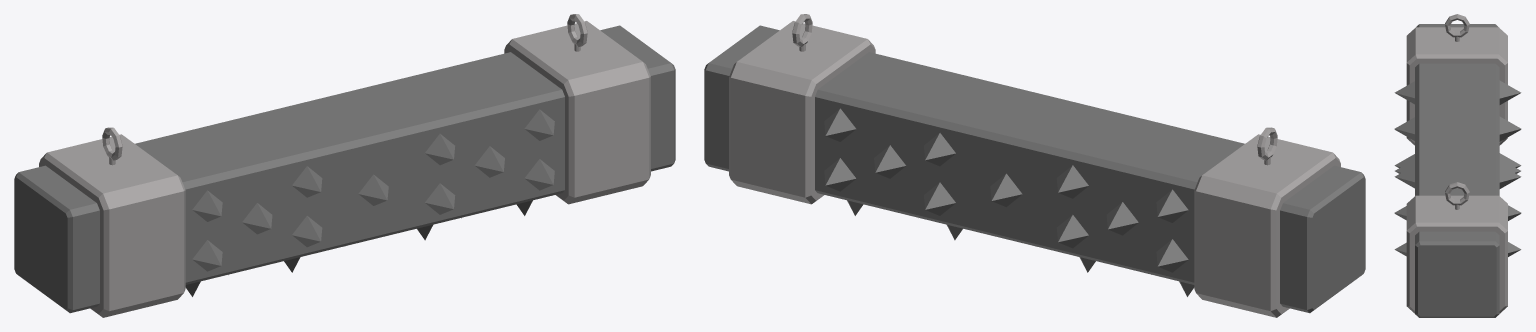
Rendered from SwingingBeam_Stone.fbx.
3 views of the same model, side by side, from view 1: azimuth 30°, elevation 25°; view 2: azimuth 150°, elevation 25°; view 3: azimuth 270°, elevation 25° (orthographic). The views are drawn at different scales.
Visible parts, largest first — view 1: SwingingBeam_Stone; view 2: SwingingBeam_Stone; view 3: SwingingBeam_Stone.
Part boxes in pixels (bbox=[...]): SwingingBeam_Stone: bbox=[14, 14, 675, 317]; SwingingBeam_Stone: bbox=[704, 14, 1365, 317]; SwingingBeam_Stone: bbox=[1394, 14, 1521, 317].
Size of the model in its own units: 366 by 101 by 89.61.
